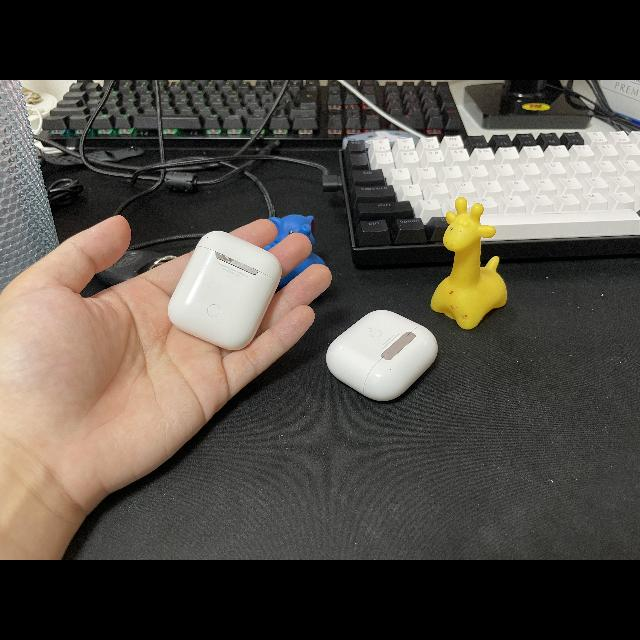airpod2: (162, 223, 290, 357)
airpod3: (318, 302, 446, 410)
